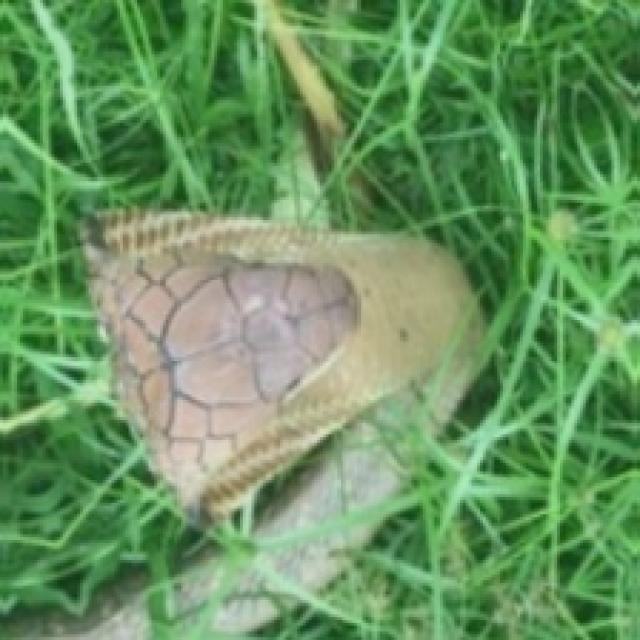king cobra: (83, 209, 480, 589), (83, 209, 480, 520), (174, 560, 274, 629)
